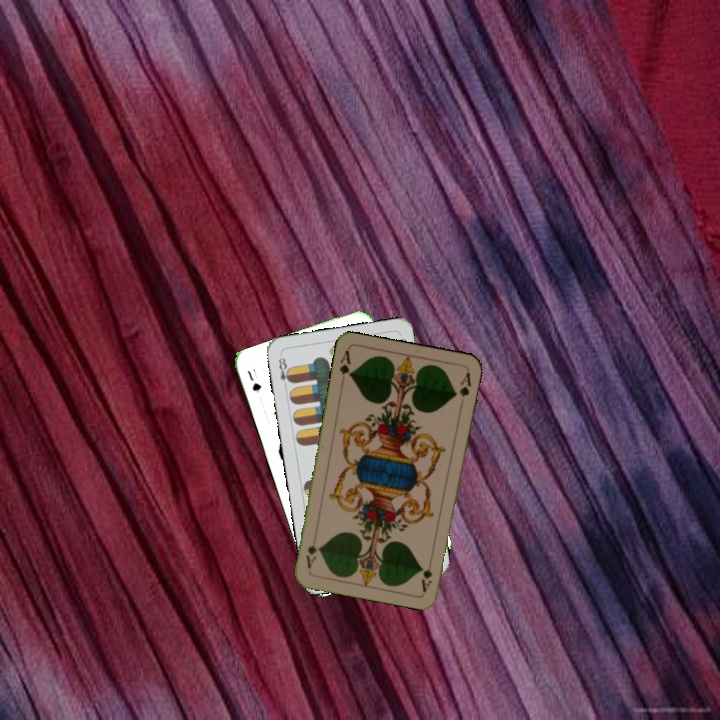E8: (275, 353, 294, 392)
GA: (336, 346, 354, 387), (418, 554, 435, 594)
GU: (243, 366, 264, 396)
